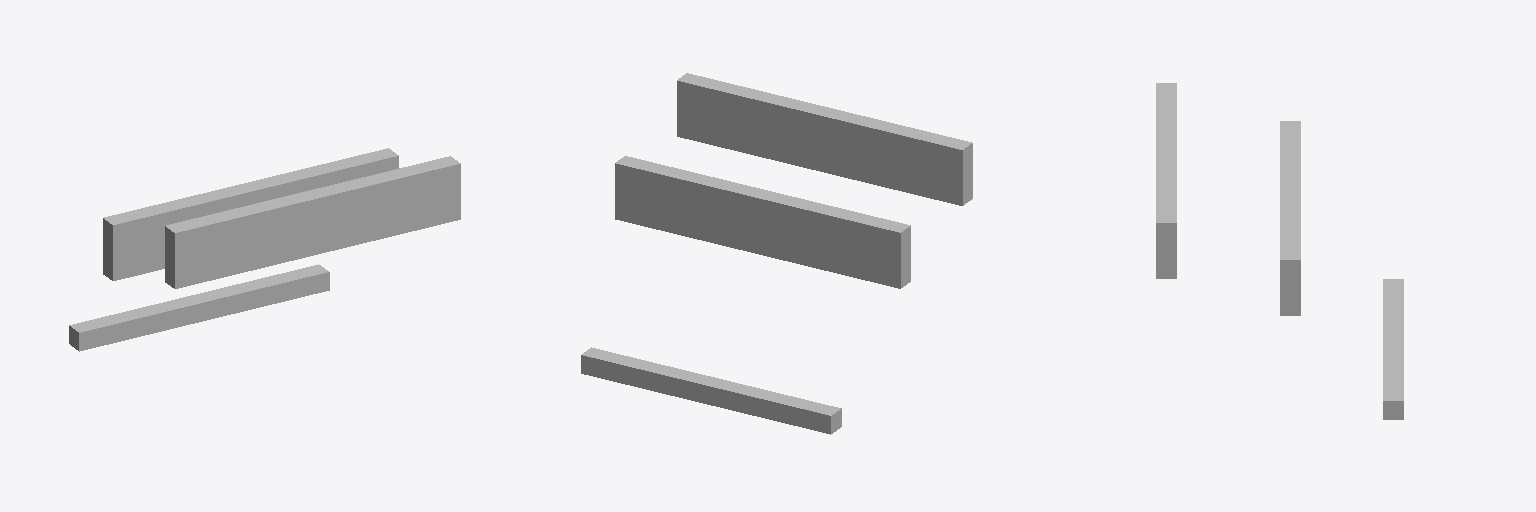
File: loom_6.obj
The picture shows the model from 3 angles: view 1: azimuth 30°, elevation 25°; view 2: azimuth 150°, elevation 25°; view 3: azimuth 270°, elevation 25°; orthographic projection.
Visible parts, largest first — view 1: node_0_0_0; view 2: node_0_0_0; view 3: node_0_0_0.
Part boxes in pixels (left/top/right/bottom): node_0_0_0: left=69, top=148, right=460, bottom=351; node_0_0_0: left=581, top=73, right=972, bottom=434; node_0_0_0: left=1156, top=83, right=1403, bottom=419.
Bounding box in the file's own units: 1 × 0.6875 × 0.75.